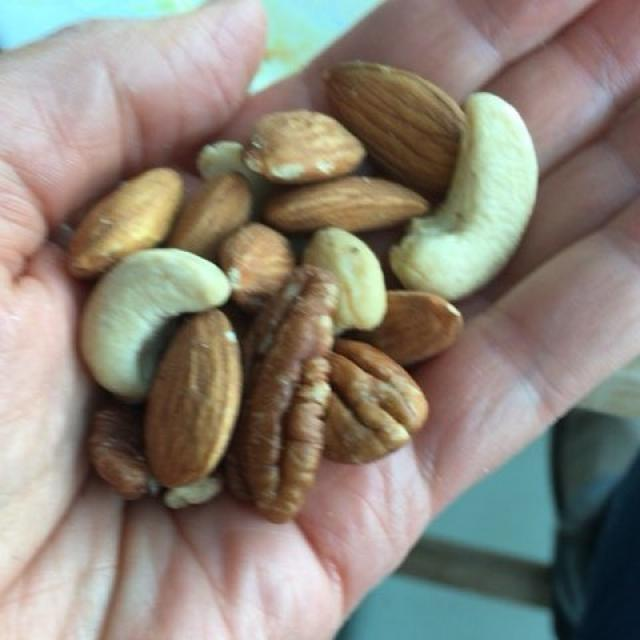mixed-nuts: (64, 68, 523, 518)
